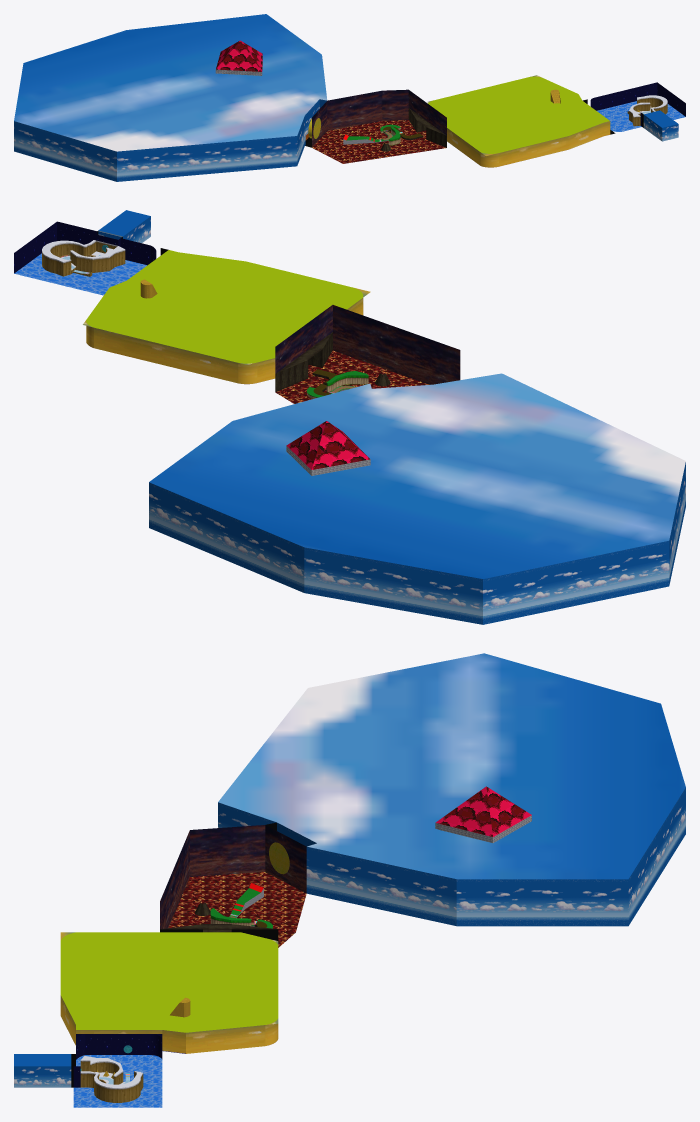
The picture shows the model from 3 angles, top to bottom: view 1: azimuth 30°, elevation 25°; view 2: azimuth 150°, elevation 25°; view 3: azimuth 270°, elevation 25°; orthographic projection. The views are drawn at different scales.
Visible parts, largest first — view 1: Paradoxic_Worldway_Main-Material47, Paradoxic_Worldway_Main-Material45, Paradoxic_Worldway_Main-R, Paradoxic_Worldway_Main-Material30, Paradoxic_Worldway_Main-Material23, Paradoxic_Worldway_Main-Material21, Paradoxic_Worldway_Main-Material13, Paradoxic_Worldway_Main-Material44, Paradoxic_Worldway_Main-Material12, Paradoxic_Worldway_Main-Material22, Paradoxic_Worldway_Main-Material6, Paradoxic_Worldway_Main-Material4; view 2: Paradoxic_Worldway_Main-Material47, Paradoxic_Worldway_Main-Material45, Paradoxic_Worldway_Main-R, Paradoxic_Worldway_Main-Material30, Paradoxic_Worldway_Main-Material21, Paradoxic_Worldway_Main-Material13, Paradoxic_Worldway_Main-Material44, Paradoxic_Worldway_Main-Material23, Paradoxic_Worldway_Main-Material6, Paradoxic_Worldway_Main-Material12, Paradoxic_Worldway_Main-Material22; view 3: Paradoxic_Worldway_Main-Material47, Paradoxic_Worldway_Main-R, Paradoxic_Worldway_Main-Material45, Paradoxic_Worldway_Main-Material30, Paradoxic_Worldway_Main-Material23, Paradoxic_Worldway_Main-Material21, Paradoxic_Worldway_Main-Material44, Paradoxic_Worldway_Main-Material12, Paradoxic_Worldway_Main-Material13, Paradoxic_Worldway_Main-Material6, Paradoxic_Worldway_Main-Material4, Paradoxic_Worldway_Main-Material22 (+1 smaller).
Part boxes in pixels (bbox=[...]): Paradoxic_Worldway_Main-Material47: bbox=[14, 14, 677, 151]; Paradoxic_Worldway_Main-Material45: bbox=[14, 99, 326, 181]; Paradoxic_Worldway_Main-R: bbox=[428, 76, 609, 153]; Paradoxic_Worldway_Main-Material30: bbox=[312, 89, 446, 147]; Paradoxic_Worldway_Main-Material23: bbox=[312, 120, 445, 163]; Paradoxic_Worldway_Main-Material21: bbox=[427, 75, 610, 167]; Paradoxic_Worldway_Main-Material13: bbox=[590, 82, 685, 126]; Paradoxic_Worldway_Main-Material44: bbox=[216, 40, 262, 71]; Paradoxic_Worldway_Main-Material12: bbox=[597, 101, 685, 131]; Paradoxic_Worldway_Main-Material22: bbox=[381, 108, 446, 151]; Paradoxic_Worldway_Main-Material6: bbox=[627, 97, 667, 126]; Paradoxic_Worldway_Main-Material4: bbox=[643, 114, 678, 141]; Paradoxic_Worldway_Main-Material47: bbox=[98, 210, 685, 578]; Paradoxic_Worldway_Main-Material45: bbox=[149, 462, 685, 624]; Paradoxic_Worldway_Main-R: bbox=[86, 250, 363, 363]; Paradoxic_Worldway_Main-Material30: bbox=[275, 305, 460, 384]; Paradoxic_Worldway_Main-Material21: bbox=[83, 288, 370, 384]; Paradoxic_Worldway_Main-Material13: bbox=[14, 221, 156, 273]; Paradoxic_Worldway_Main-Material44: bbox=[286, 421, 369, 469]; Paradoxic_Worldway_Main-Material23: bbox=[275, 350, 429, 403]; Paradoxic_Worldway_Main-Material6: bbox=[42, 240, 125, 276]; Paradoxic_Worldway_Main-Material12: bbox=[14, 253, 146, 295]; Paradoxic_Worldway_Main-Material22: bbox=[275, 332, 390, 392]; Paradoxic_Worldway_Main-Material47: bbox=[14, 653, 685, 1066]; Paradoxic_Worldway_Main-R: bbox=[60, 932, 278, 1032]; Paradoxic_Worldway_Main-Material45: bbox=[218, 787, 685, 926]; Paradoxic_Worldway_Main-Material30: bbox=[160, 825, 306, 929]; Paradoxic_Worldway_Main-Material23: bbox=[168, 872, 306, 947]; Paradoxic_Worldway_Main-Material21: bbox=[60, 932, 278, 1053]; Paradoxic_Worldway_Main-Material44: bbox=[436, 786, 531, 836]; Paradoxic_Worldway_Main-Material12: bbox=[73, 1055, 162, 1107]; Paradoxic_Worldway_Main-Material13: bbox=[73, 1034, 162, 1087]; Paradoxic_Worldway_Main-Material6: bbox=[80, 1060, 143, 1102]; Paradoxic_Worldway_Main-Material4: bbox=[14, 1066, 71, 1087]; Paradoxic_Worldway_Main-Material22: bbox=[161, 903, 276, 932].
Size of the model in its own units: 598031 by 58891 by 416974.
Materials: 59 (59 with a texture image).
